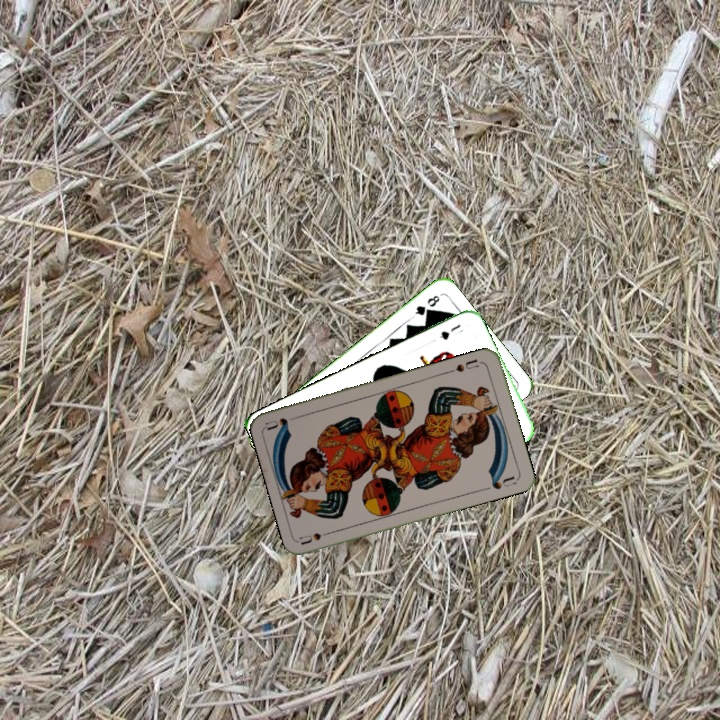G8: (409, 291, 442, 320)
GU: (436, 320, 463, 343)
SU: (297, 526, 337, 547), (445, 355, 485, 375)
